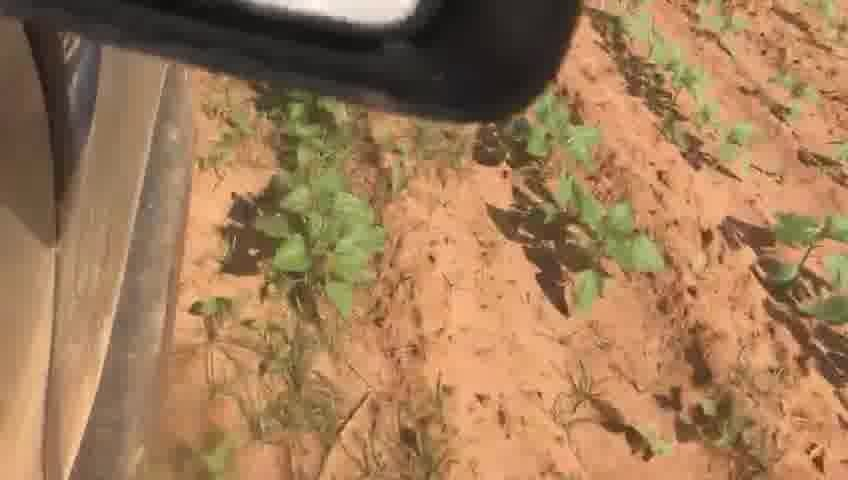sunflower: (257, 174, 391, 318), (552, 176, 669, 313), (768, 199, 842, 340), (520, 91, 611, 173), (274, 99, 360, 173), (644, 32, 717, 103), (710, 116, 765, 176), (681, 88, 722, 146)
